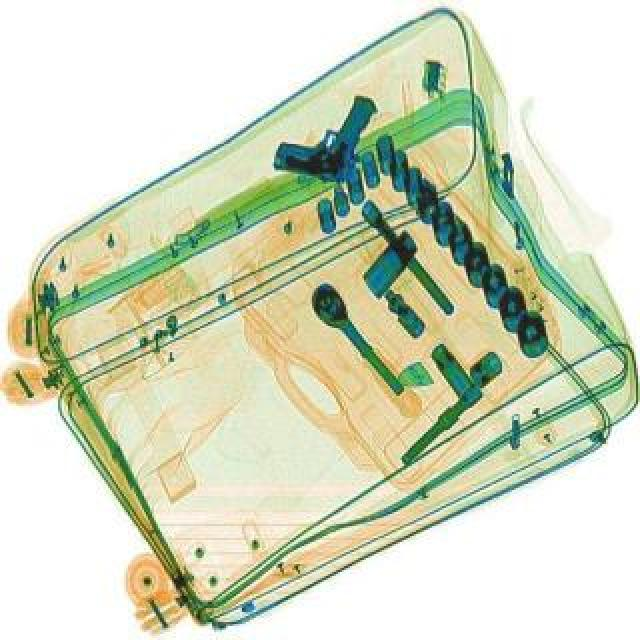gun: (264, 74, 380, 192)
